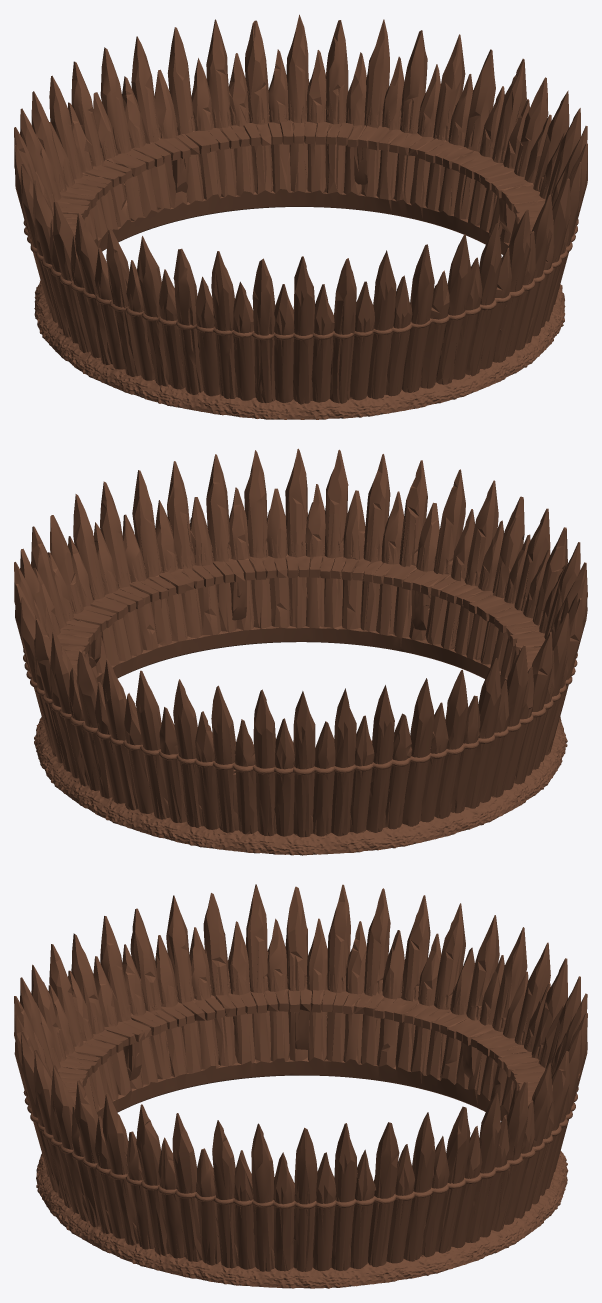
Rendered from Haven_Walls.obj.
3 renders of one model, top to bottom at view 1: azimuth 30°, elevation 25°; view 2: azimuth 150°, elevation 25°; view 3: azimuth 270°, elevation 25°, orthographic.
Visible parts, largest first — view 1: HavenMiddle_Decimate_0; view 2: HavenMiddle_Decimate_0; view 3: HavenMiddle_Decimate_0.
Part boxes in pixels (bbox=[...]): HavenMiddle_Decimate_0: bbox=[14, 14, 587, 419]; HavenMiddle_Decimate_0: bbox=[14, 448, 587, 855]; HavenMiddle_Decimate_0: bbox=[14, 884, 587, 1288].
Bounding box in the file's own units: 2.64 × 0.8782 × 2.63.
